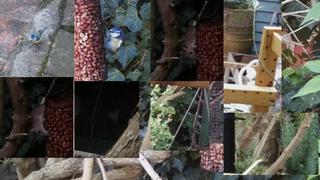blue tit: (101, 27, 124, 60), (28, 27, 48, 52)
mouse: (29, 104, 47, 136), (180, 27, 197, 60)
